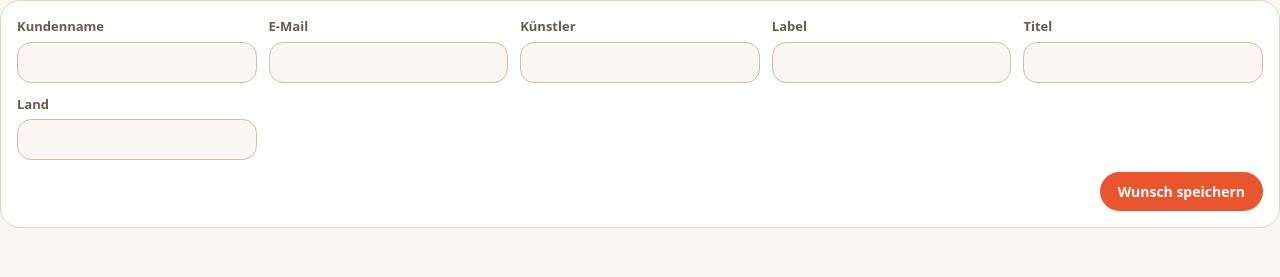
Test: WishlistForm › shows the error message when createWishlist fails
Type "X" into the field with test id "wl-customer-name" at (137, 62), box [17,42,257,82]
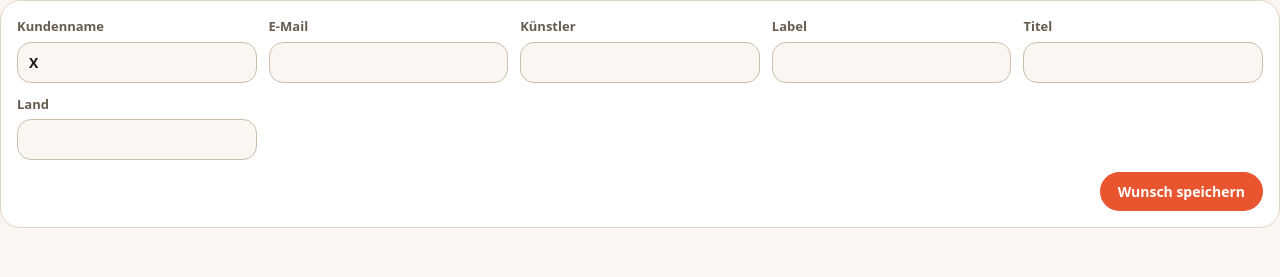
Type "x@example.com" into the field with test id "wl-customer-email" at (388, 62), box [269,42,508,82]
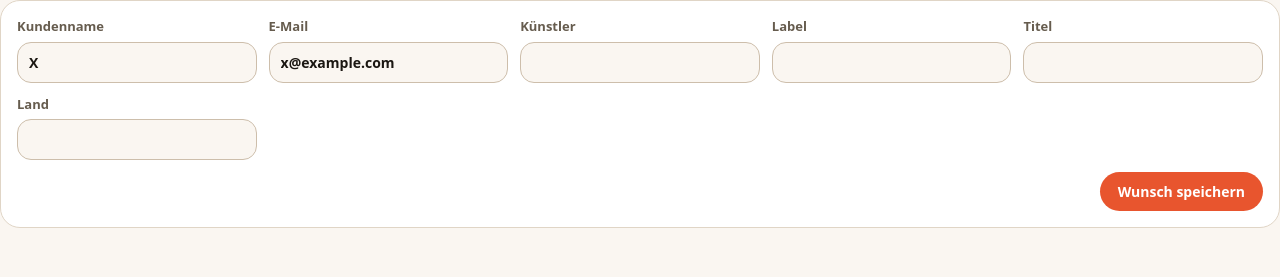
Type "Y" into the field with test id "wl-artist" at (640, 62), box [520,42,760,82]
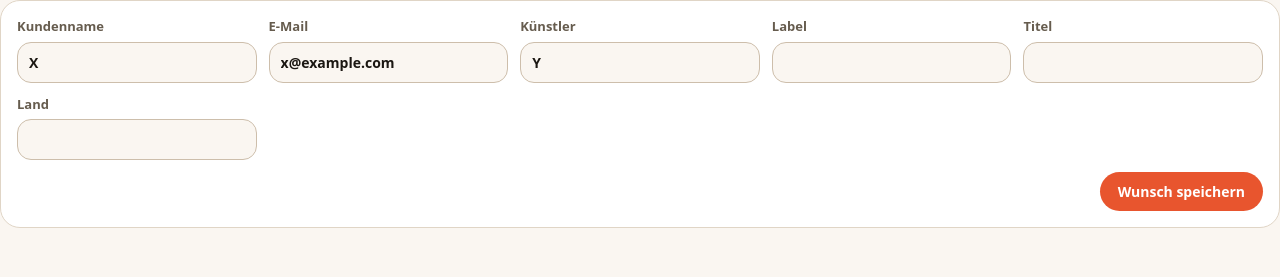
Click the button with test id "wishlist-submit" at (1181, 192), box [1100,172,1263,211]
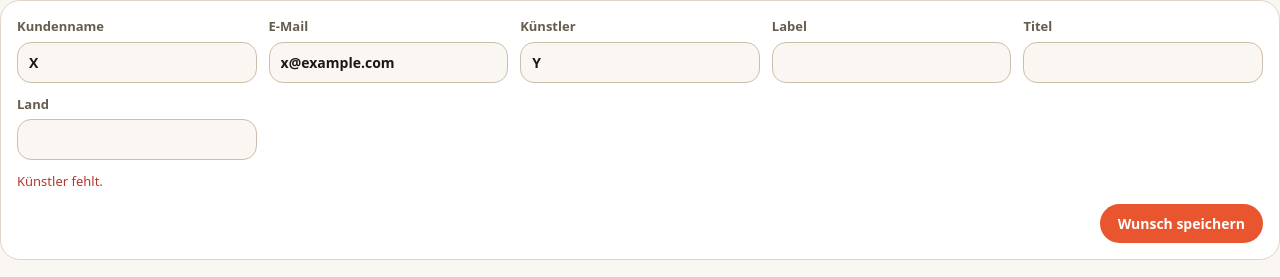
Expected: the message reads "Künstler fehlt.", [17,172,103,190]
